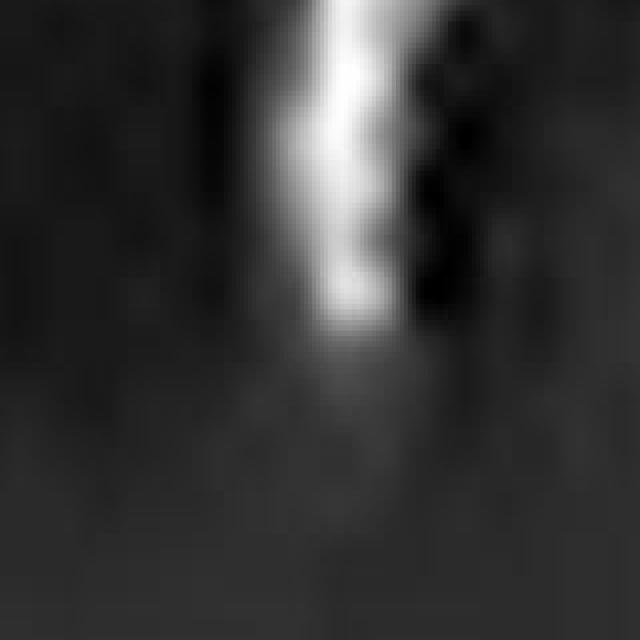person: (249, 1, 457, 369)
